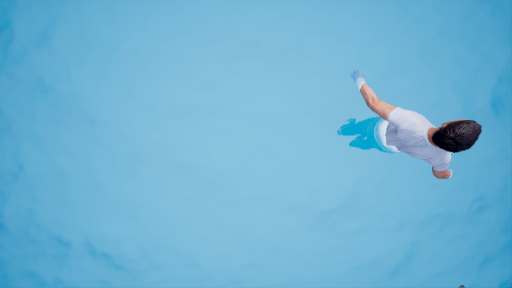person: (339, 68, 484, 190)
